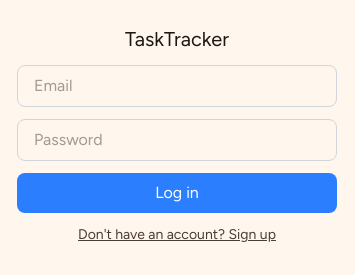
Test: AuthForm › shows the real error message when login fails
The image size is (355, 275).
In the field with placeholder "Email": (177, 86) top-left (17, 65), bottom-right (337, 107), type "alice@example.com"
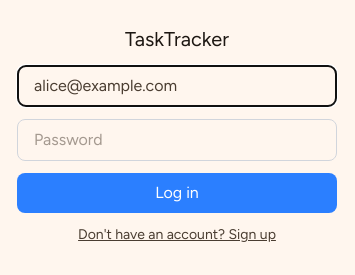
In the password field with placeholder "Password": (177, 140) top-left (17, 119), bottom-right (337, 161), type "wrongpassword"
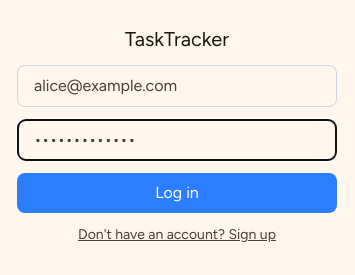
Click the button "Log in": (177, 193) top-left (17, 173), bottom-right (337, 213)
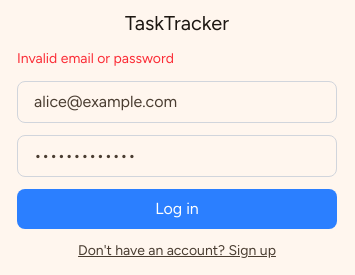
Expected: the text "Invalid email or password" is shown, top-left (17, 50), bottom-right (174, 67)
